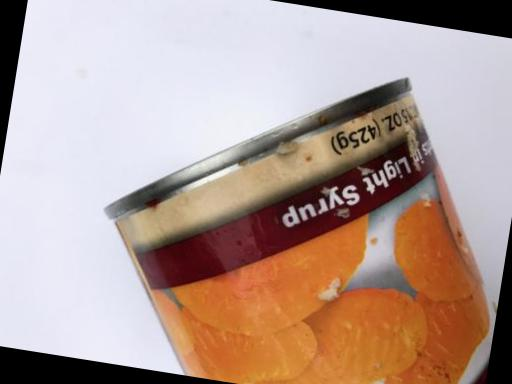metal: (35, 30, 512, 384)
